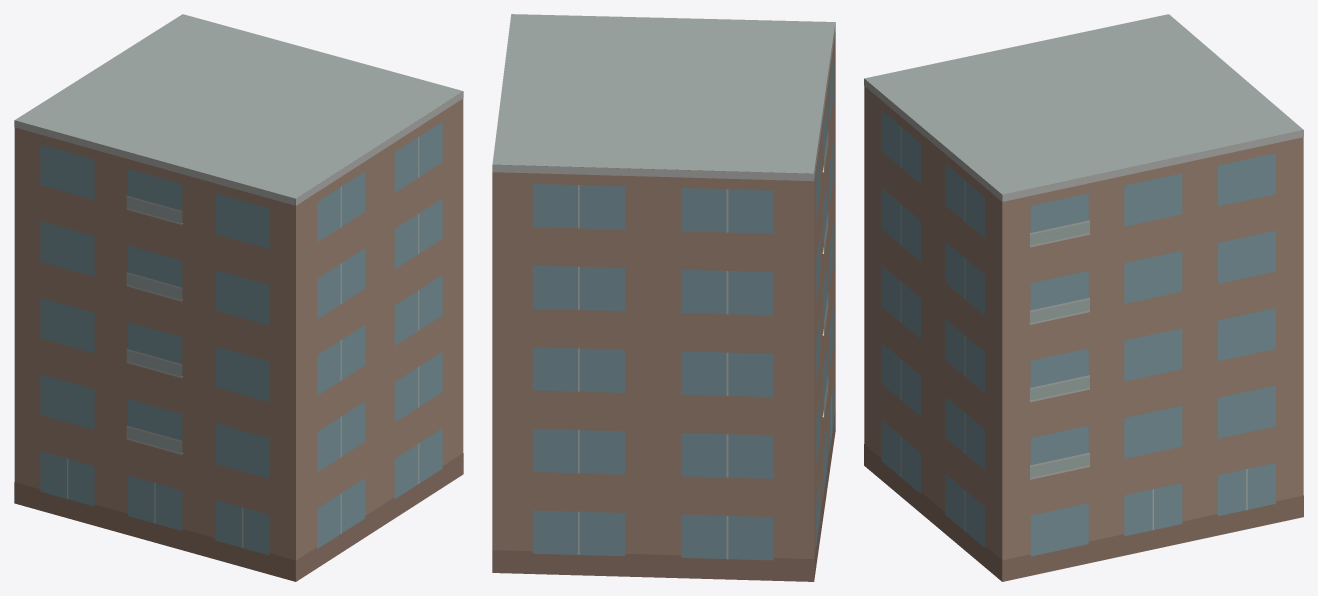
The model's file is survey-upis-33037900.glb.
The picture shows the model from 3 angles, left to right: view 1: azimuth 30°, elevation 25°; view 2: azimuth 150°, elevation 25°; view 3: azimuth 270°, elevation 25°; orthographic projection. The views are drawn at different scales.
Visible parts, largest first — view 1: survey-upis-33037900.tmp; view 2: survey-upis-33037900.tmp; view 3: survey-upis-33037900.tmp.
Part boxes in pixels (<box>): survey-upis-33037900.tmp: <box>14,14,463,581</box>; survey-upis-33037900.tmp: <box>492,14,835,581</box>; survey-upis-33037900.tmp: <box>864,14,1303,581</box>.
Size of the model in its own units: 13.12 by 13.1 by 13.49.
